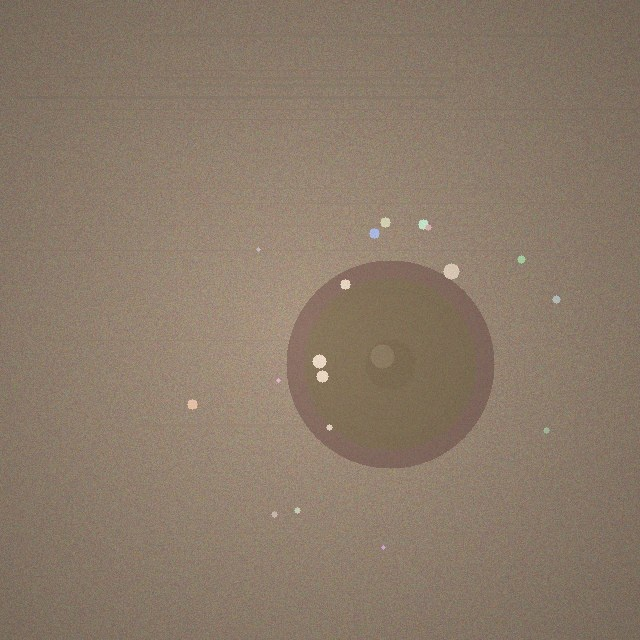overburn: (286, 260, 494, 468)
